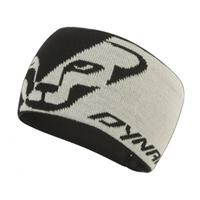hat: (18, 28, 184, 173)
